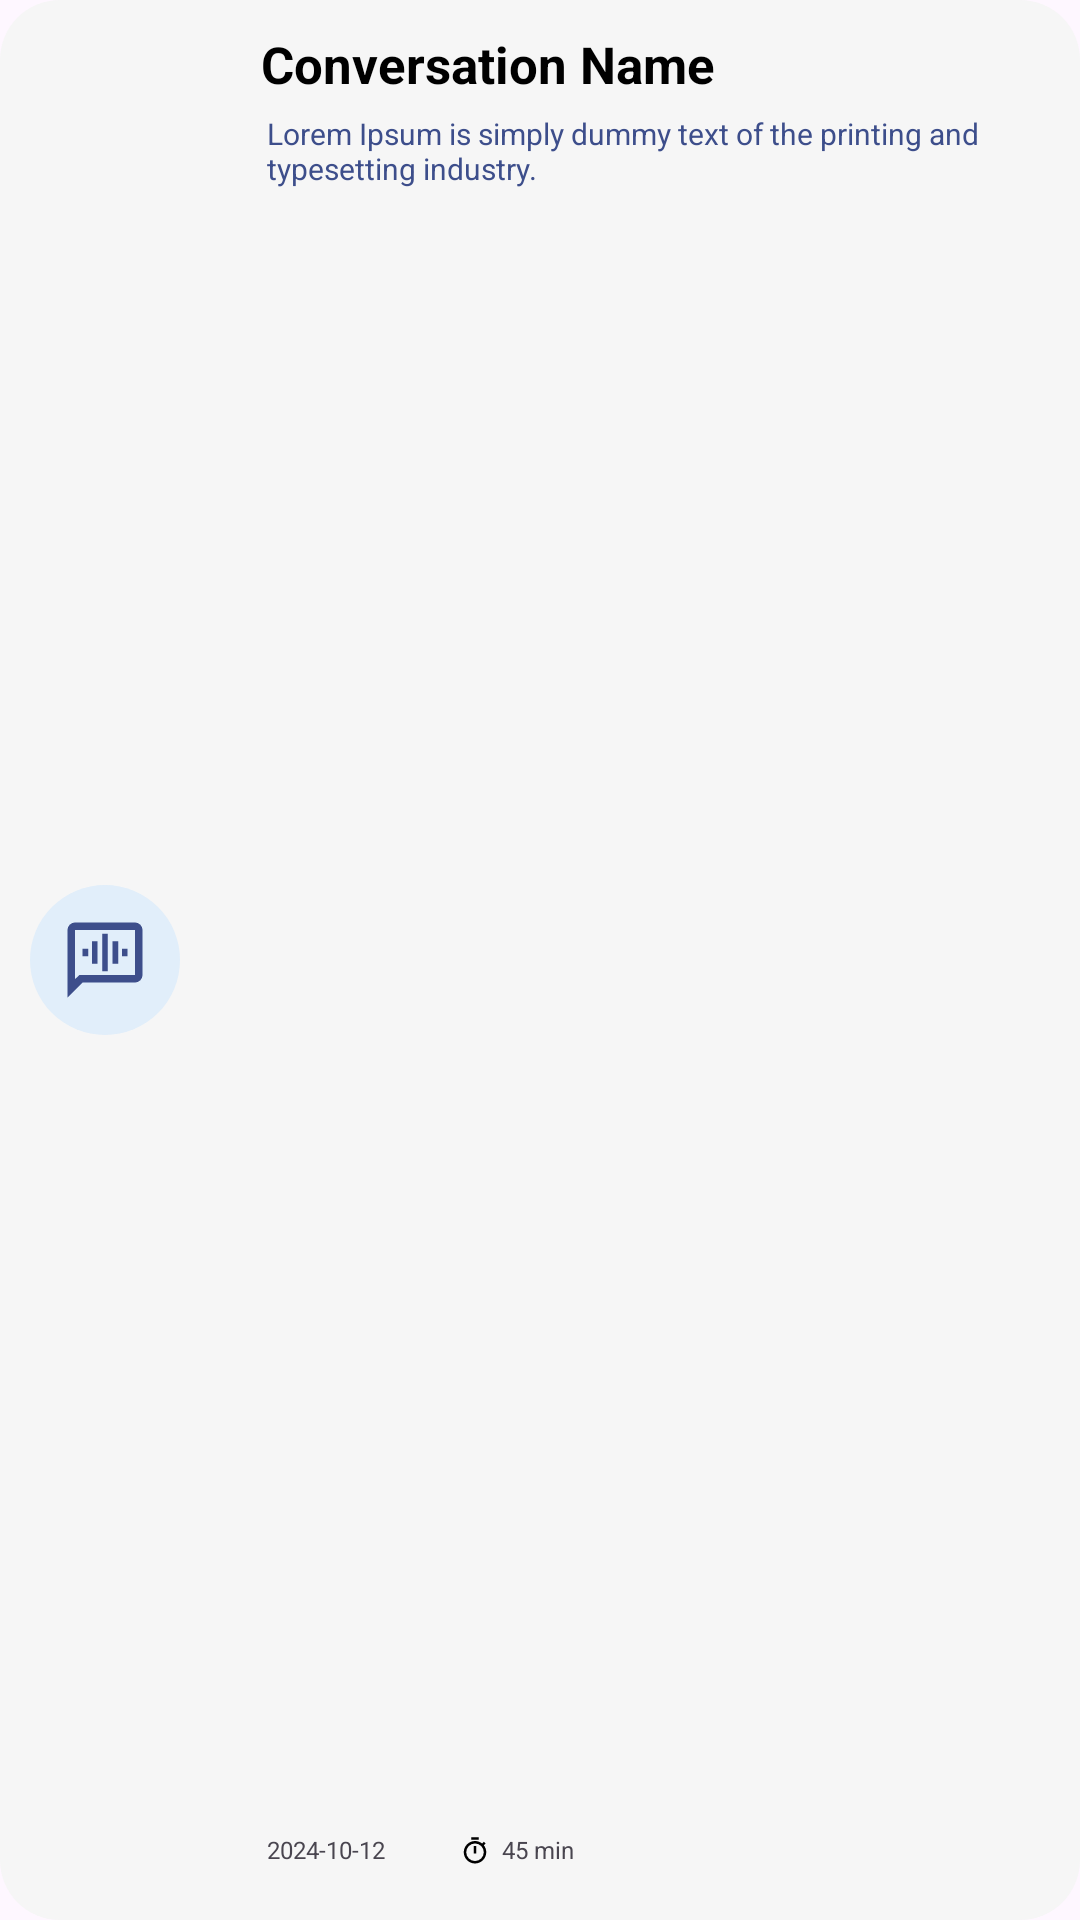

Locate icon controls on the screen. Image size 1080 x 1920, boxes as (x1=x1, y1=y1, x2=x2, y2=y2).
conversation: (x1=30, y1=885, x2=180, y2=1035)
timer: (x1=463, y1=1837, x2=487, y2=1864)
